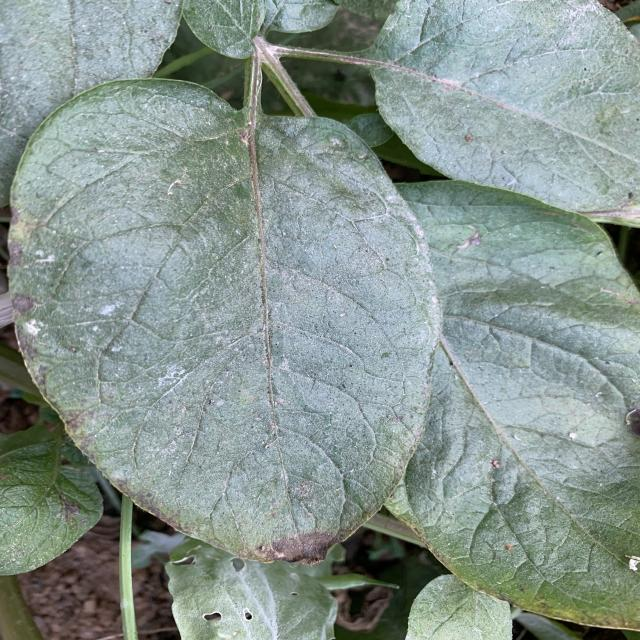lateblight: (228, 530, 340, 564)
